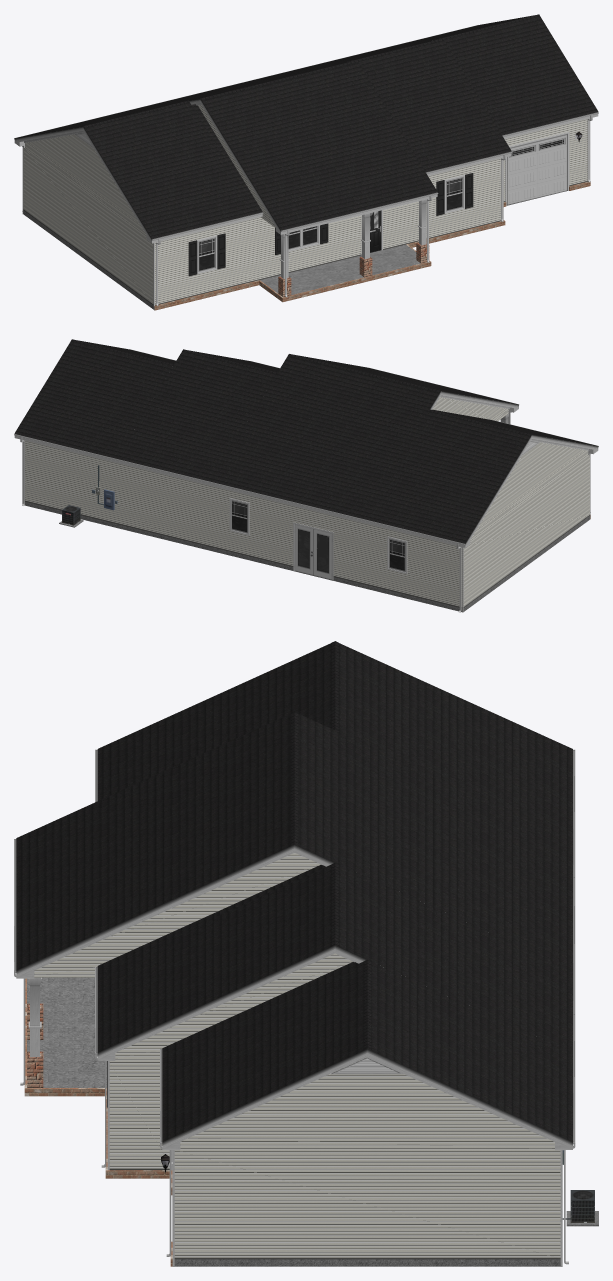
Rendered from house6_mirror2.fbx.
3 renders of one model, top to bottom at view 1: azimuth 30°, elevation 25°; view 2: azimuth 150°, elevation 25°; view 3: azimuth 270°, elevation 25°, orthographic. The views are drawn at different scales.
Visible parts, largest first — view 1: house6_mirror2_LOD0; view 2: house6_mirror2_LOD0; view 3: house6_mirror2_LOD0.
Boxes of the visible parts, left/top/right/bottom form: house6_mirror2_LOD0: left=14, top=14, right=598, bottom=310; house6_mirror2_LOD0: left=14, top=339, right=598, bottom=612; house6_mirror2_LOD0: left=14, top=641, right=598, bottom=1266.
Size of what is drawn, in the model's own units: 5.73 by 1.74 by 3.61.
